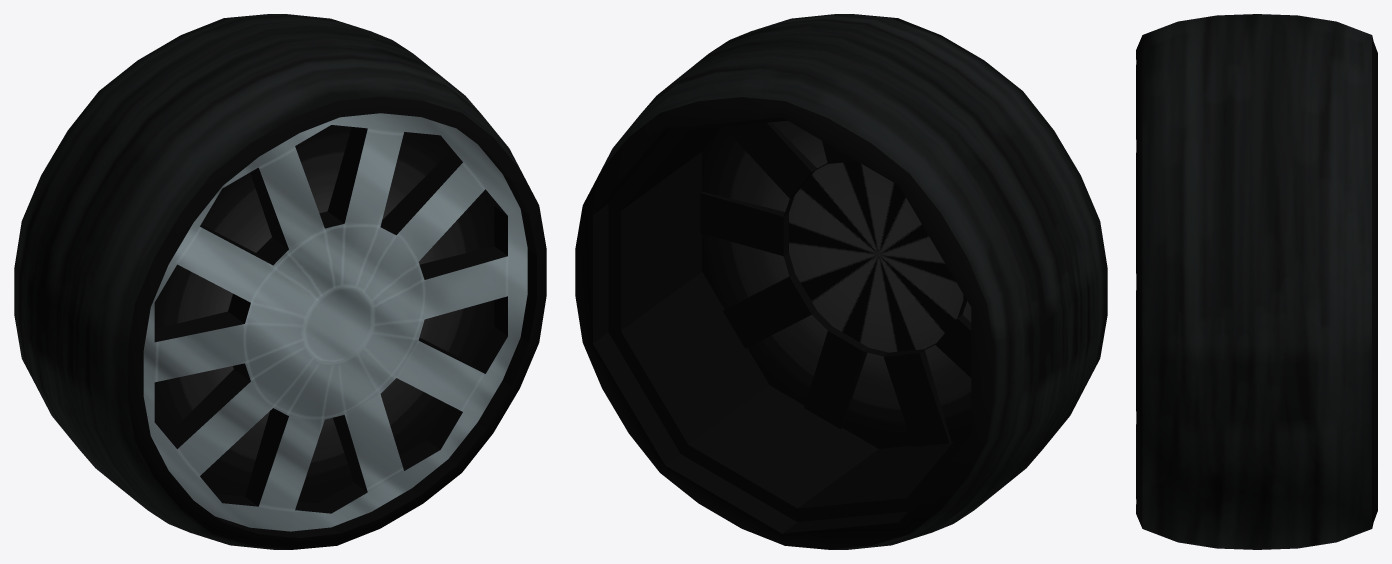
Rendered from FL_Wheel.fbx.
The picture shows the model from 3 angles, left to right: view 1: azimuth 30°, elevation 25°; view 2: azimuth 150°, elevation 25°; view 3: azimuth 270°, elevation 25°; orthographic projection.
Parts seen in each view (by area): view 1: FrontLeftWheel; view 2: FrontLeftWheel; view 3: FrontLeftWheel.
Part boxes in pixels (box(x1,y1,x2,y2)): FrontLeftWheel: box(14, 14, 546, 549); FrontLeftWheel: box(575, 14, 1107, 549); FrontLeftWheel: box(1136, 14, 1377, 549).
Size of the model in its own units: 66.15 by 68.94 by 30.71.
